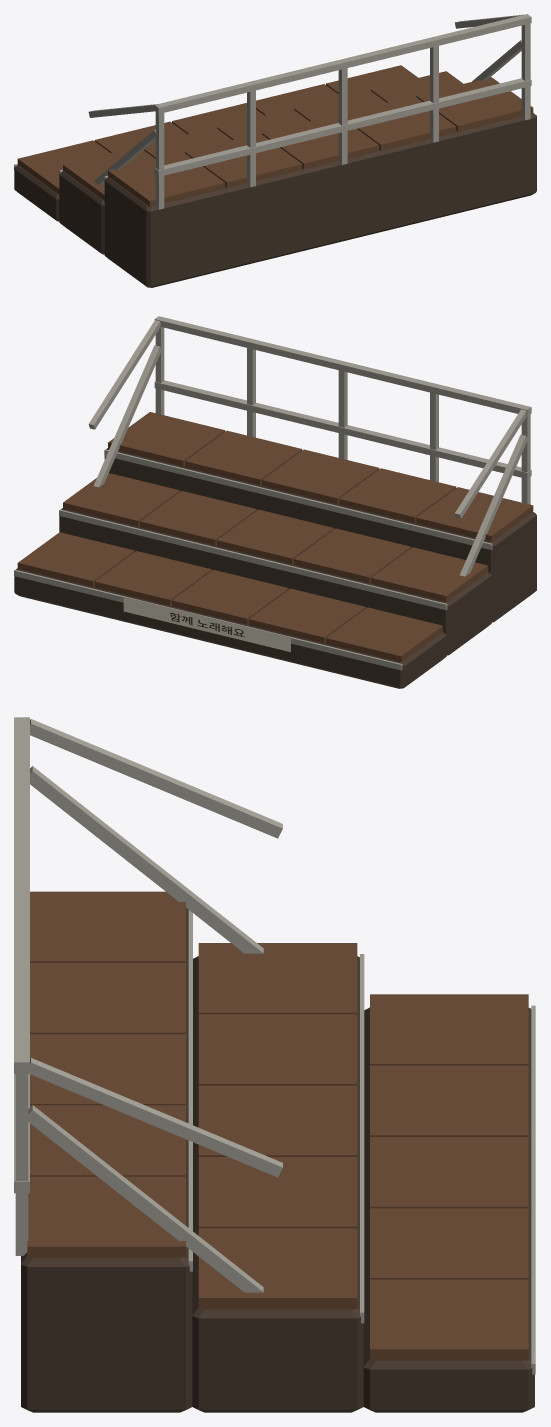
File: P02_Choir_Risers.fbx
3 views of the same model, one above another, from view 1: azimuth 30°, elevation 25°; view 2: azimuth 150°, elevation 25°; view 3: azimuth 270°, elevation 25° (orthographic). The views are drawn at different scales.
Parts seen in each view (by area): view 1: Riser, Guardrail; view 2: Riser, Guardrail, Front_Label; view 3: Riser, Guardrail.
Part boxes in pixels (x1,y1,x2,y2): Riser: (14, 65, 536, 287); Guardrail: (88, 14, 531, 209); Riser: (14, 412, 536, 688); Guardrail: (88, 316, 531, 576); Front_Label: (123, 597, 290, 652); Riser: (21, 891, 535, 1412); Guardrail: (14, 717, 282, 1292).
Size of the model in its own units: 3.6 by 1.6 by 2.2.
5 materials, 1 textured.
